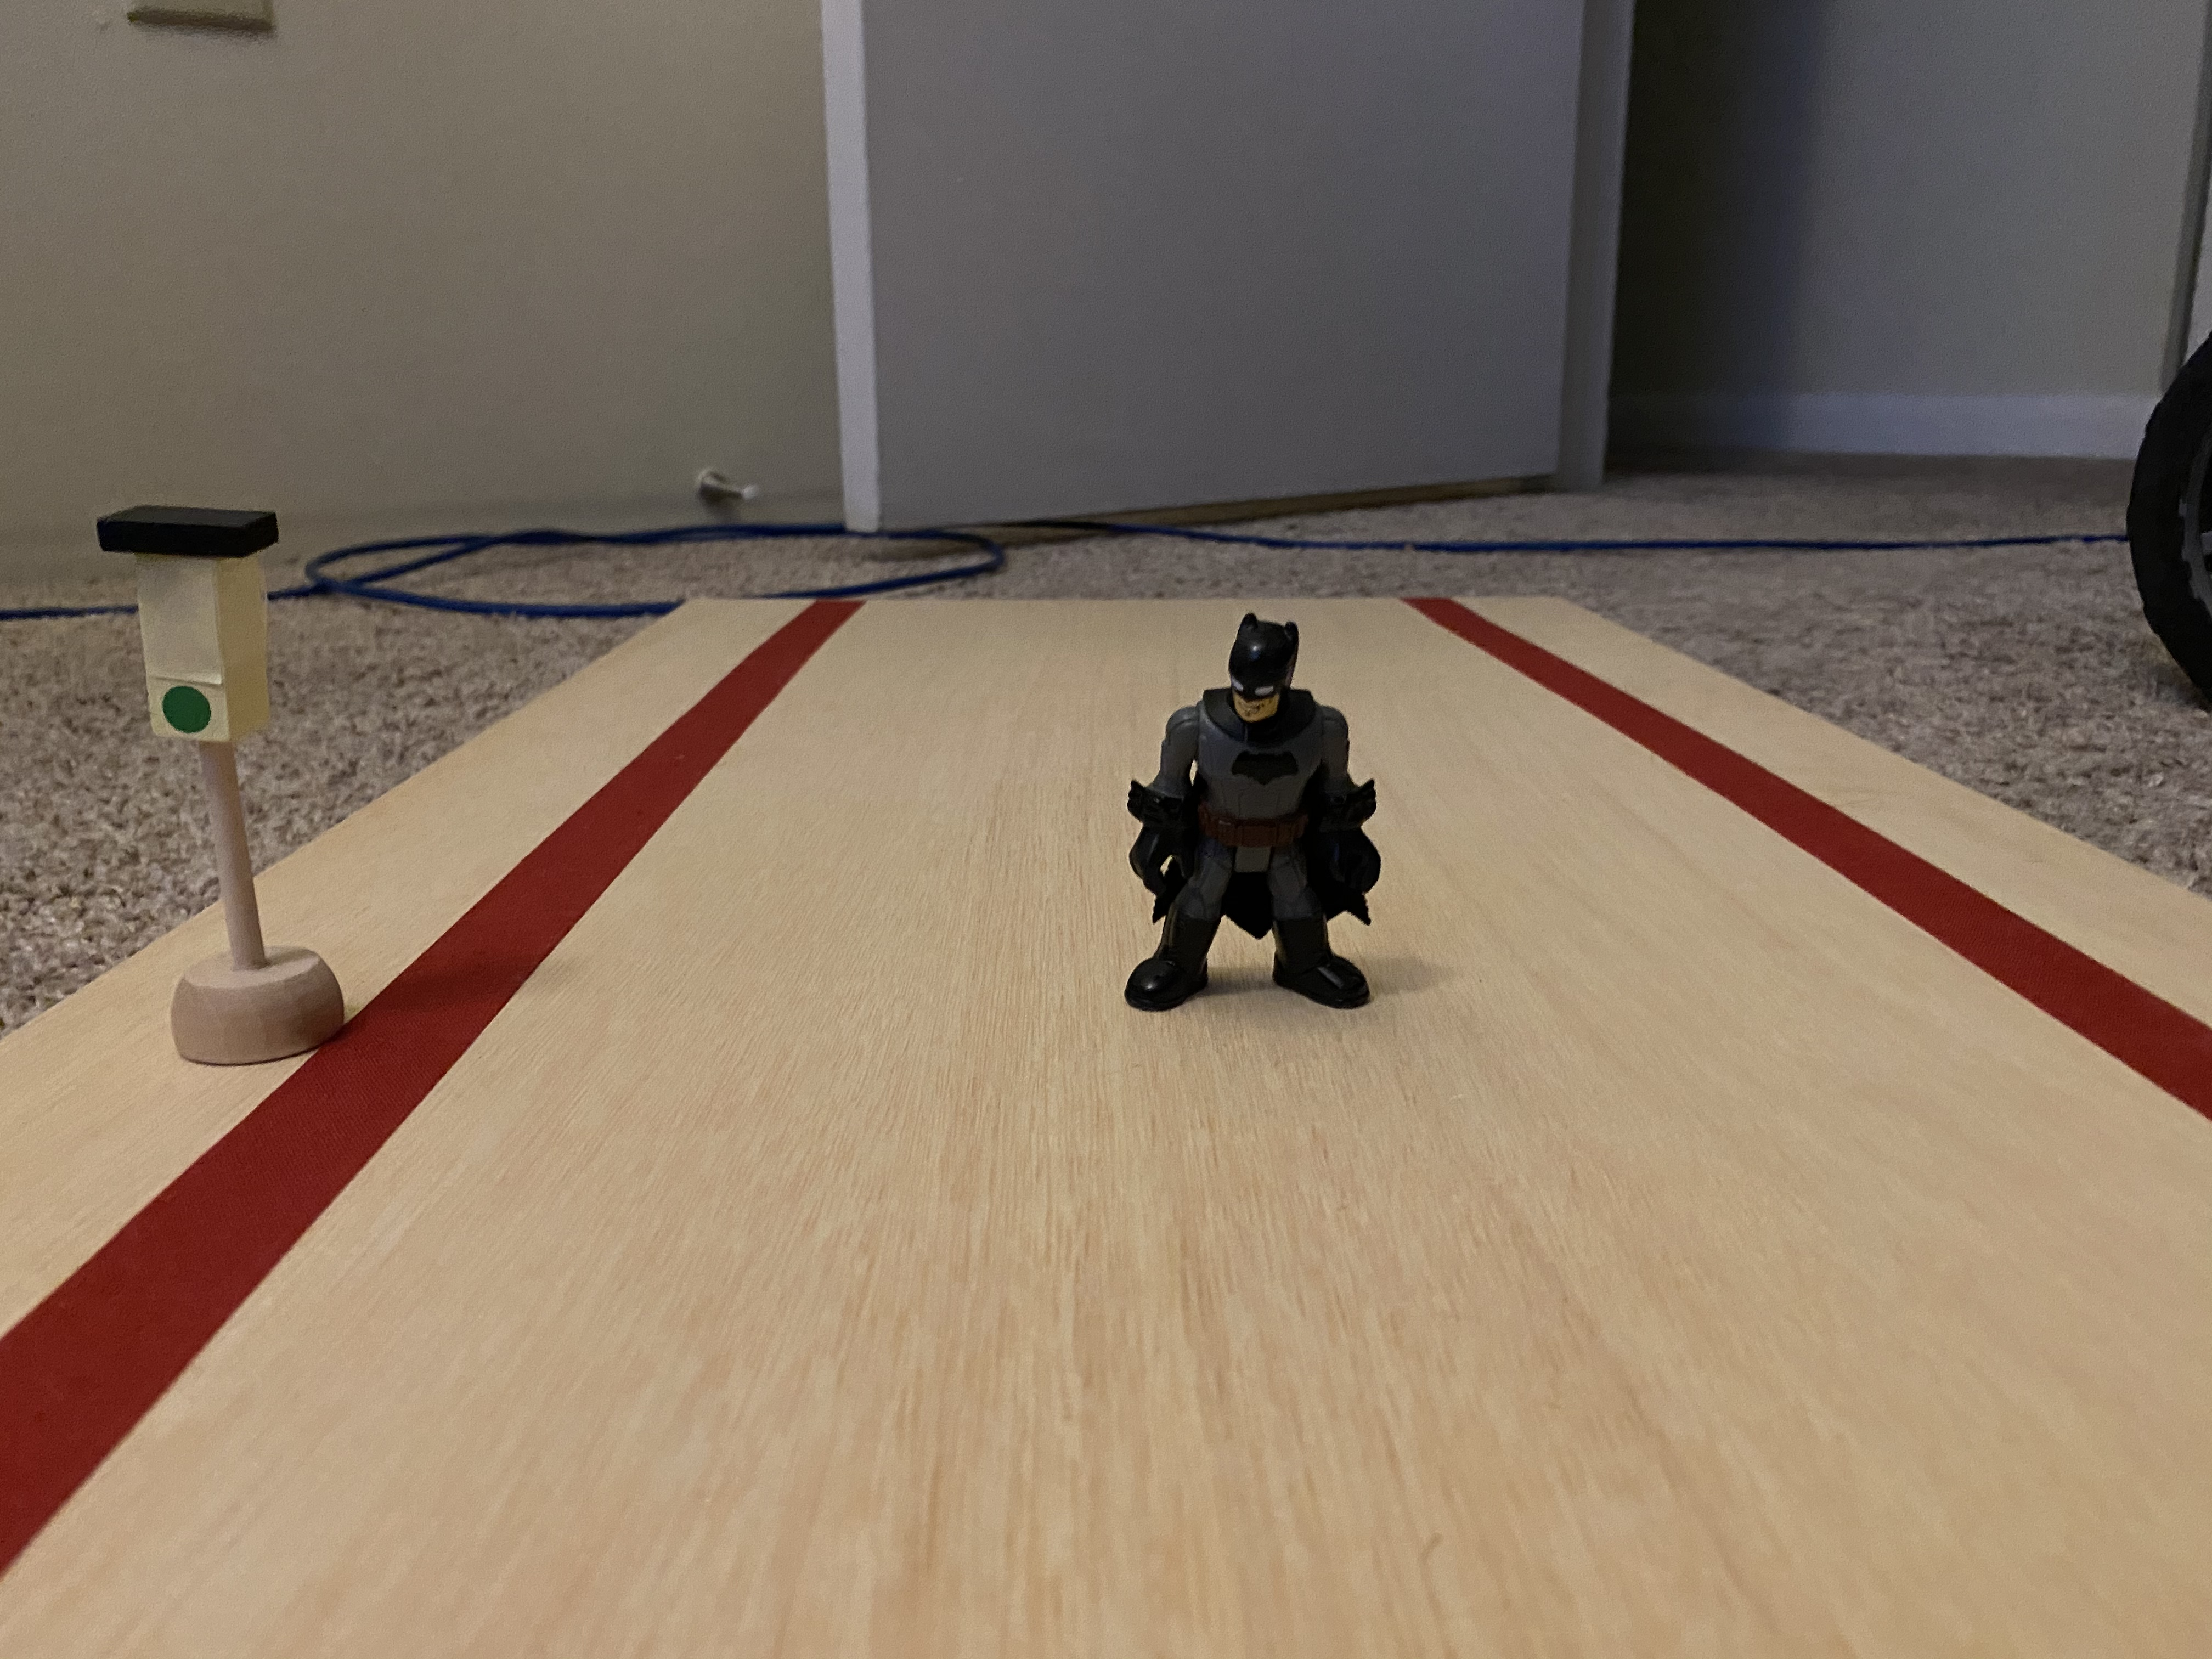Green Traffic Light: (67, 491, 324, 765)
Person: (1074, 605, 1440, 1030)
